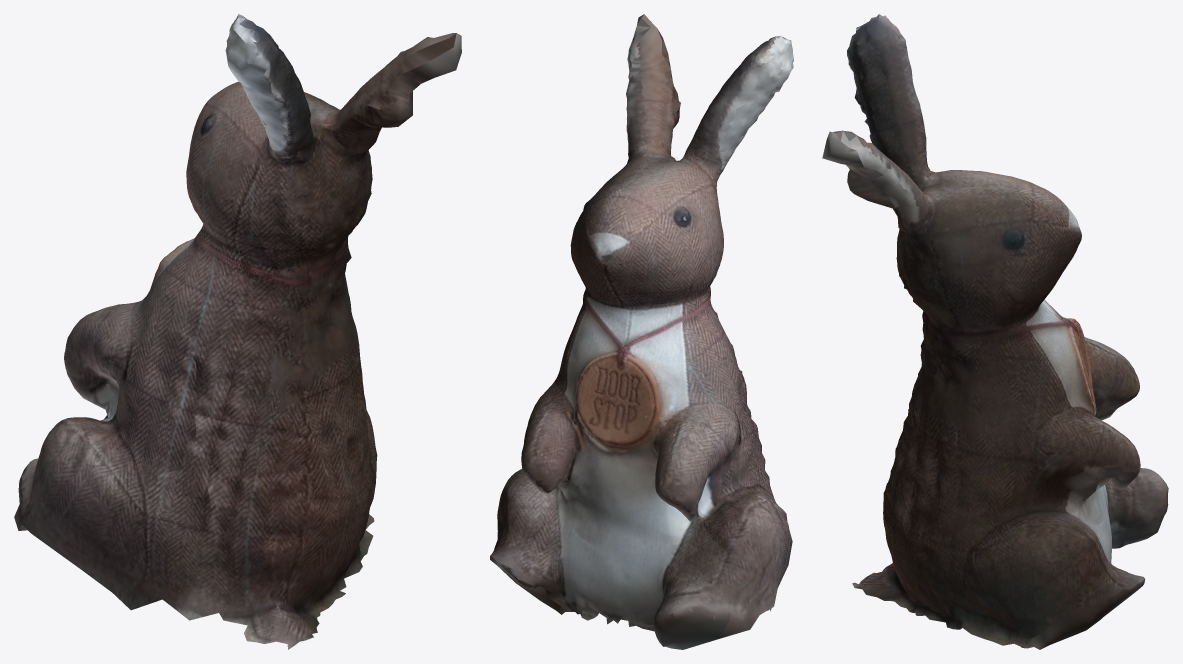
Rendered from door_rabbit.obj.
The picture shows the model from 3 angles, left to right: view 1: azimuth 30°, elevation 25°; view 2: azimuth 150°, elevation 25°; view 3: azimuth 270°, elevation 25°; orthographic projection. The views are drawn at different scales.
Bounding box in the file's own units: 0.1734 × 0.3237 × 0.183.
Materials: 1 (1 with a texture image).
